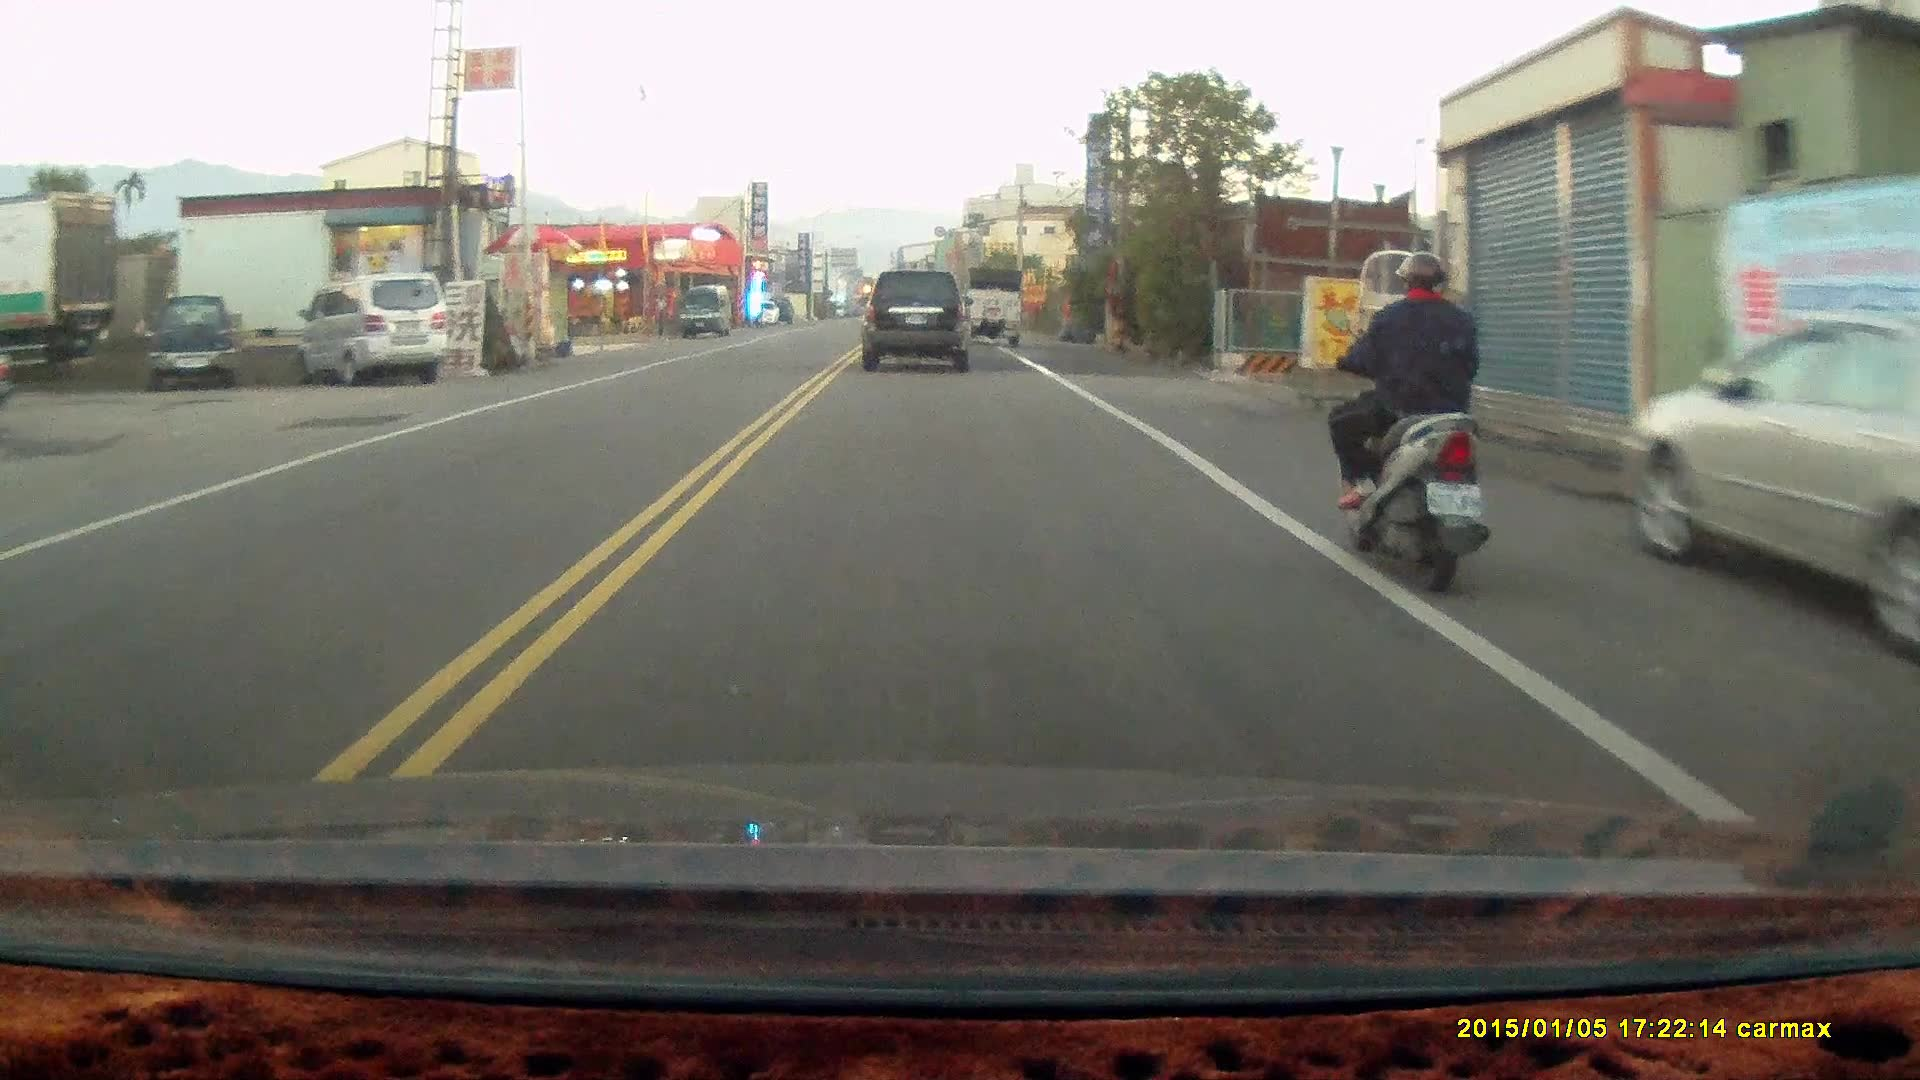rider: (1330, 252, 1496, 599)
vehicle: (1611, 309, 1919, 663), (298, 271, 449, 386), (860, 266, 978, 373), (154, 295, 235, 391), (964, 268, 1025, 347), (680, 285, 735, 339)
